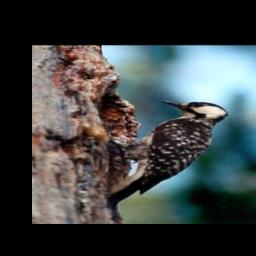Woodpecker: (98, 98, 242, 211)
